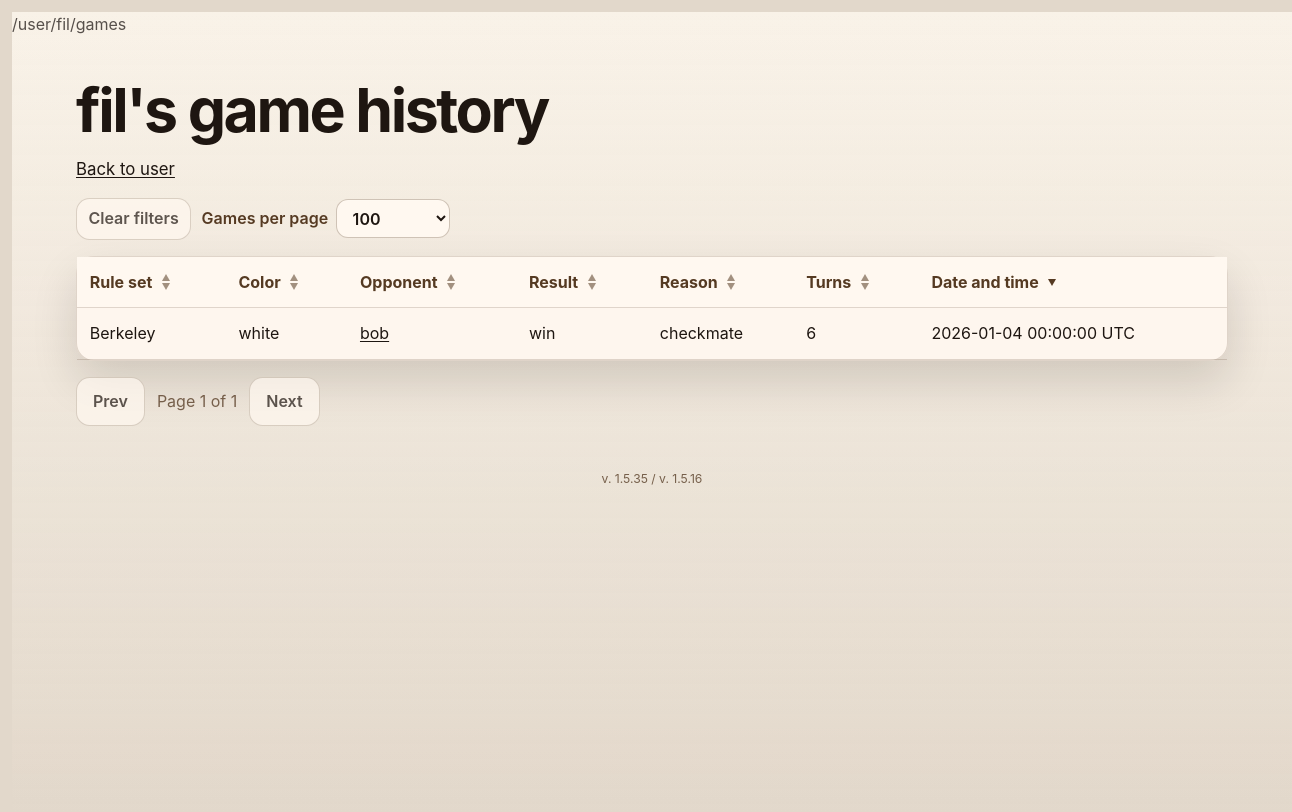
Test case: GameHistoryPage › closes_an_open_filter_menu_when_clicking_elsewhere
Click the button "Opponent" at (399, 282), box 360,270 -> 438,294
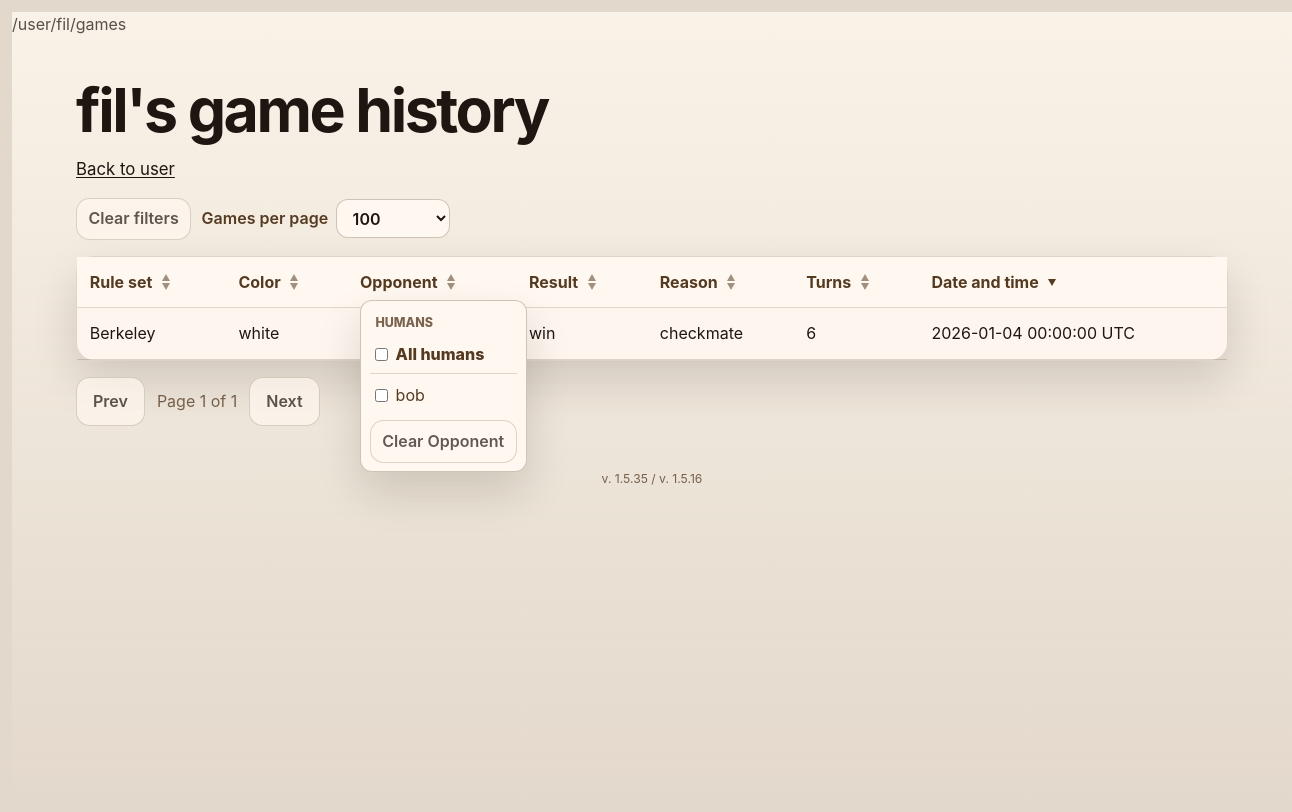
Expected: the menu is shown, 360,300 -> 526,472
Press the mouse on the element that starts with "/user/fil/games" at (652, 412), box 12,12 -> 1291,811
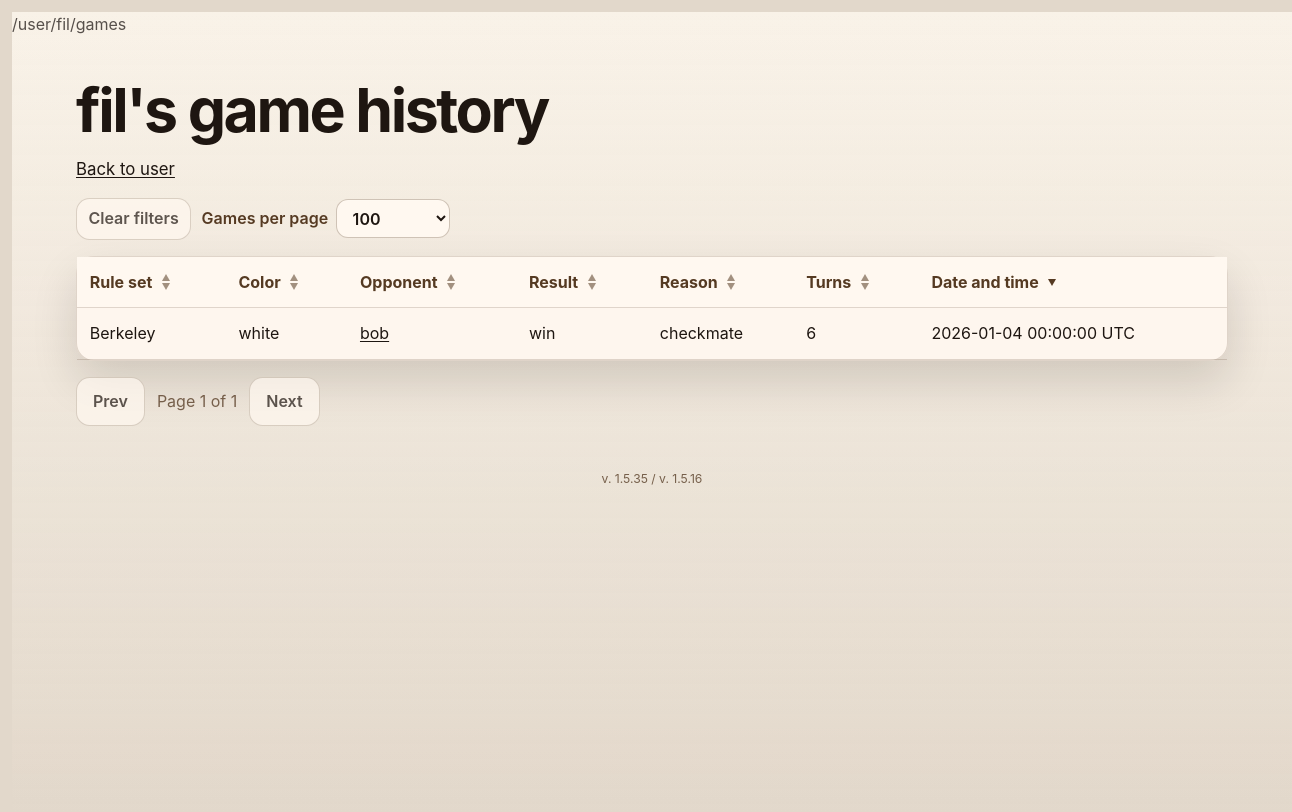
Expected: the menu is gone
